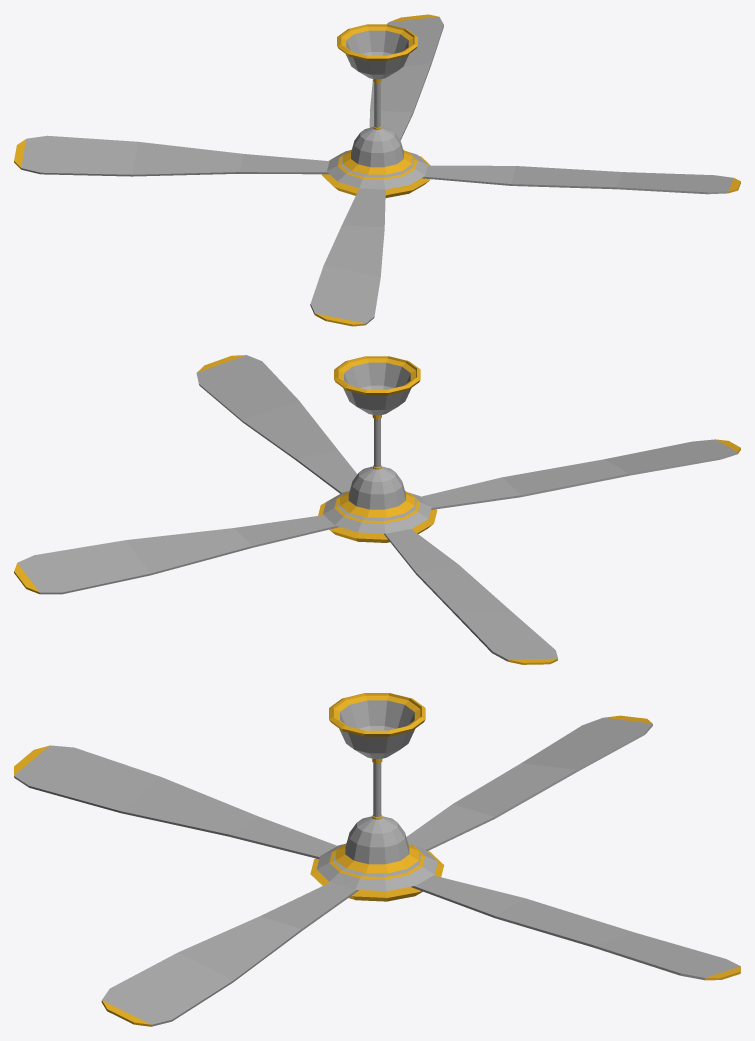
The model's file is Fan.fbx.
3 renders of one model, top to bottom at view 1: azimuth 30°, elevation 25°; view 2: azimuth 150°, elevation 25°; view 3: azimuth 270°, elevation 25°, orthographic. The views are drawn at different scales.
Parts seen in each view (by area): view 1: Blade 1, Blade 2, Top Fan, Blade 3, Blade 4, Fan Spinner; view 2: Blade 4, Blade 3, Blade 1, Top Fan, Blade 2, Fan Spinner; view 3: Blade 2, Blade 3, Blade 1, Top Fan, Blade 4, Fan Spinner.
Part boxes in pixels (x1,y1,x2,y2): Blade 1: [14, 135, 329, 176]; Blade 2: [310, 188, 385, 326]; Top Fan: [337, 24, 417, 174]; Blade 3: [422, 165, 740, 194]; Blade 4: [369, 14, 443, 140]; Fan Spinner: [322, 150, 430, 197]; Blade 4: [14, 515, 338, 594]; Blade 3: [196, 355, 357, 493]; Blade 1: [384, 529, 557, 664]; Top Fan: [334, 356, 420, 517]; Blade 2: [421, 439, 740, 509]; Fan Spinner: [318, 491, 437, 542]; Blade 2: [14, 745, 337, 858]; Blade 3: [101, 882, 358, 1026]; Blade 1: [406, 715, 652, 851]; Top Fan: [329, 693, 425, 873]; Blade 4: [411, 875, 740, 980]; Fan Spinner: [310, 844, 444, 901].
Size of the model in its own units: 151 by 39.53 by 152.
